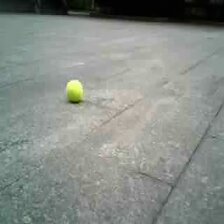tennis: (65, 79, 82, 101)
